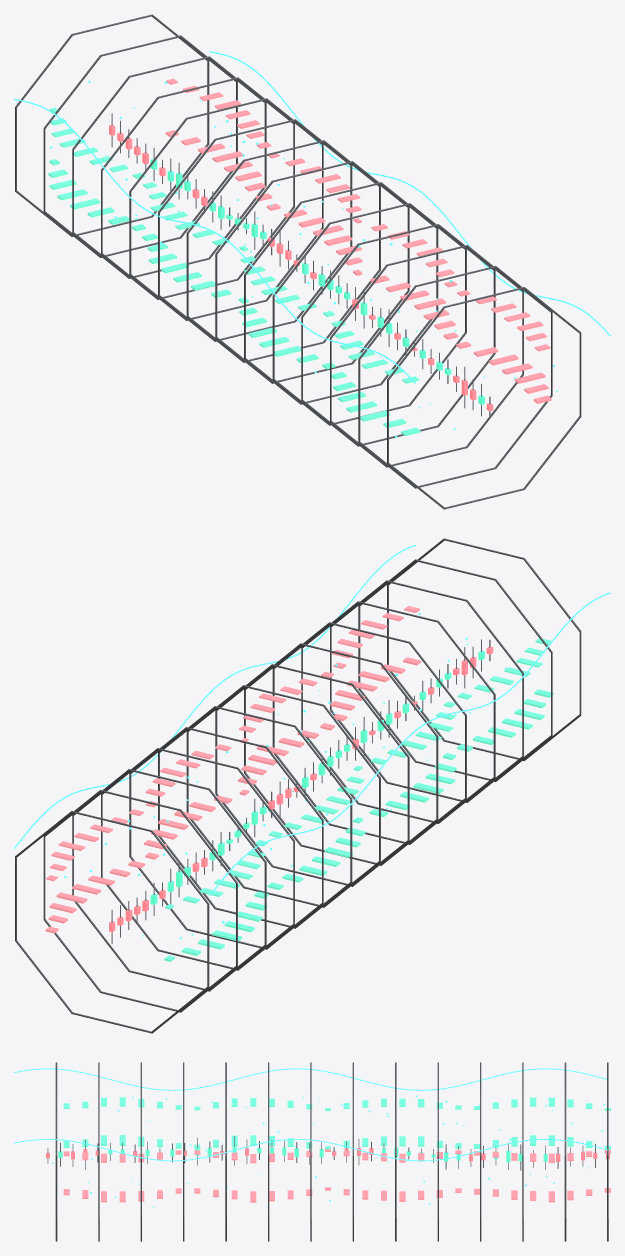
File: market_tunnel.glb
3 renders of one model, top to bottom at view 1: azimuth 30°, elevation 25°; view 2: azimuth 150°, elevation 25°; view 3: azimuth 270°, elevation 25°, orthographic. The views are drawn at different scales.
Parts seen in each view (by area): view 1: Rib_13, Rib_12, Rib_07, Rib_09, Rib_04, Rib_00, Rib_01, Rib_08, Rib_10, Rib_05, Rib_11, Rib_06 (+4 smaller); view 2: Rib_00, Rib_07, Rib_01, Rib_02, Rib_10, Rib_06, Rib_13, Rib_04, Rib_09, Rib_12, Rib_08, Rib_03 (+4 smaller); view 3: VolWave_L, VolWave_R, Rib_01, Rib_13, Rib_00, Rib_02, Rib_07, Rib_12, Rib_03, Rib_04, Rib_05, Rib_09 (+4 smaller).
Boxes of the visible parts, x1,y1,x2,y2 form: Rib_13: [387, 287, 581, 509]; Rib_12: [358, 266, 552, 488]; Rib_07: [215, 161, 409, 383]; Rib_09: [272, 203, 466, 425]; Rib_04: [129, 98, 323, 320]; Rib_00: [15, 14, 209, 236]; Rib_01: [43, 35, 237, 257]; Rib_08: [244, 182, 438, 404]; Rib_10: [301, 224, 495, 446]; Rib_05: [158, 119, 352, 341]; Rib_11: [330, 245, 523, 467]; Rib_06: [186, 140, 380, 362]; Rib_00: [15, 811, 209, 1033]; Rib_07: [215, 664, 409, 886]; Rib_01: [43, 790, 237, 1012]; Rib_02: [72, 769, 266, 991]; Rib_10: [301, 601, 495, 823]; Rib_06: [186, 685, 380, 907]; Rib_13: [387, 538, 581, 760]; Rib_04: [129, 727, 323, 949]; Rib_09: [272, 622, 466, 844]; Rib_12: [358, 559, 552, 781]; Rib_08: [244, 643, 438, 865]; Rib_03: [101, 748, 294, 970]; VolWave_L: [14, 1068, 606, 1090]; VolWave_R: [14, 1139, 607, 1161]; Rib_01: [564, 1062, 566, 1241]; Rib_13: [55, 1062, 57, 1241]; Rib_00: [607, 1062, 608, 1241]; Rib_02: [522, 1062, 523, 1241]; Rib_07: [310, 1062, 311, 1241]; Rib_12: [98, 1062, 99, 1241]; Rib_03: [480, 1062, 481, 1241]; Rib_04: [437, 1062, 438, 1241]; Rib_05: [395, 1062, 396, 1241]; Rib_09: [225, 1062, 226, 1241].
Size of the model in its own units: 5.94 by 5.88 by 21.11.
